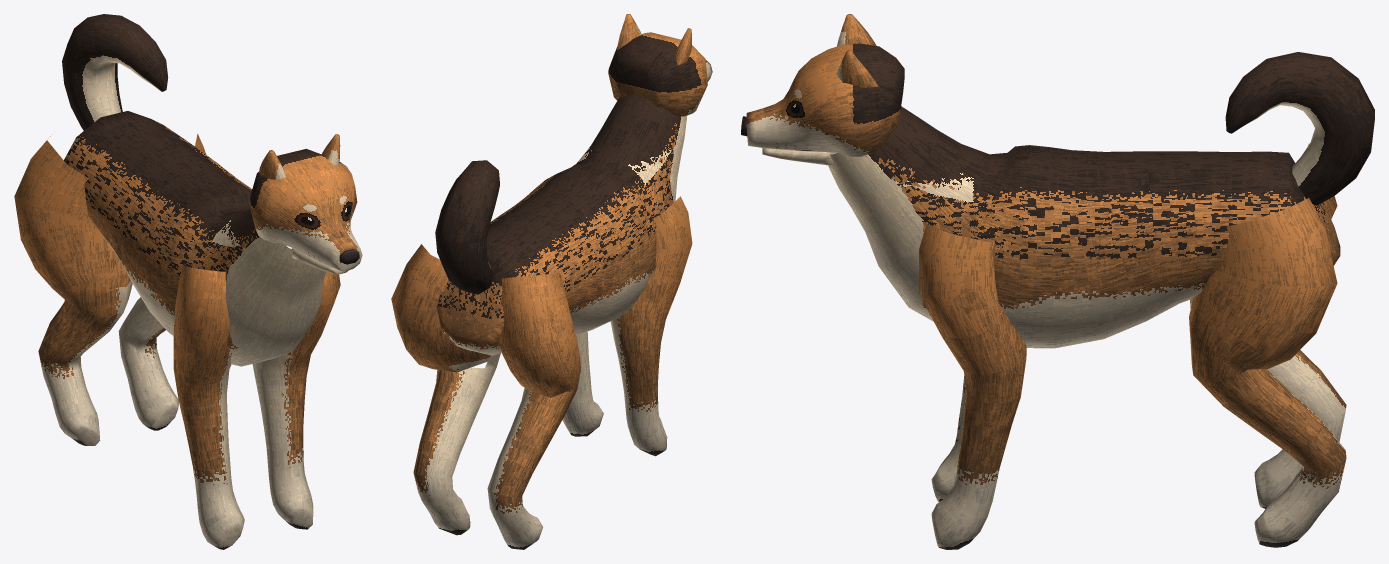
Rendered from dog_goma.glb.
The picture shows the model from 3 angles, left to right: view 1: azimuth 30°, elevation 25°; view 2: azimuth 150°, elevation 25°; view 3: azimuth 270°, elevation 25°; orthographic projection. The views are drawn at different scales.
Visible parts, largest first — view 1: dog_goma; view 2: dog_goma; view 3: dog_goma.
Boxes of the visible parts, x1,y1,x2,y2 form: dog_goma: (14, 14, 362, 549); dog_goma: (391, 14, 712, 549); dog_goma: (741, 14, 1374, 549).
Size of the model in its own units: 0.2465 by 0.5454 by 0.6336.
1 material, 1 textured.
